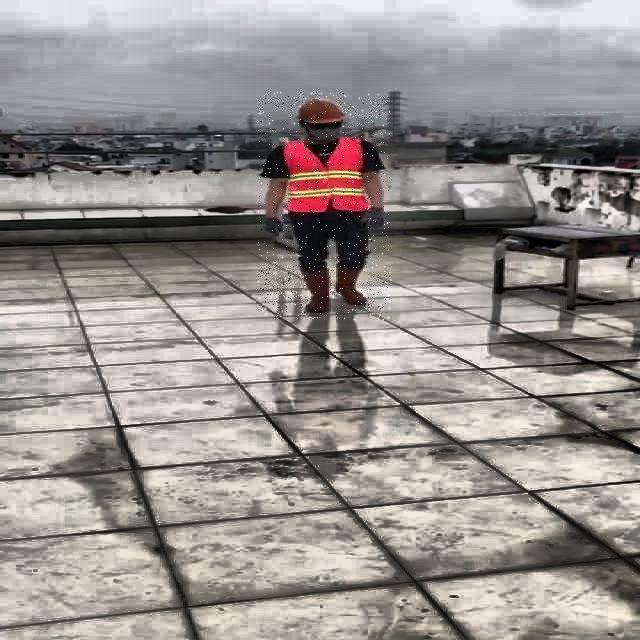safety_helmet: (291, 98, 350, 126)
safety_jacket: (284, 136, 368, 214)
